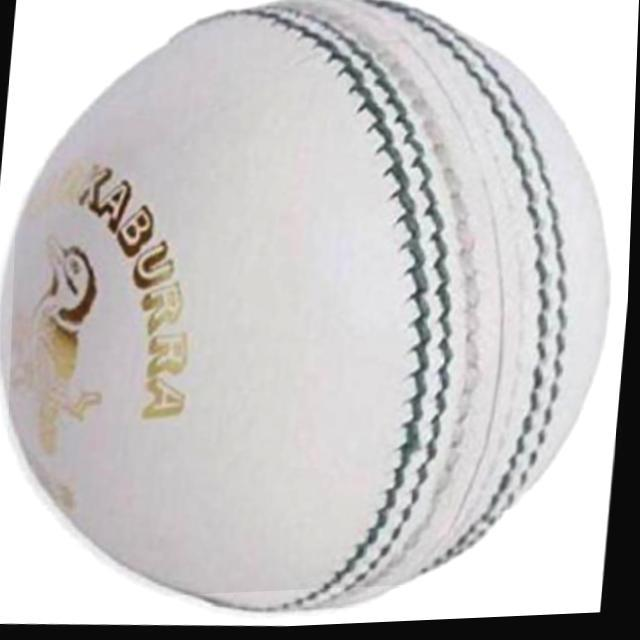-: (6, 0, 633, 603)
